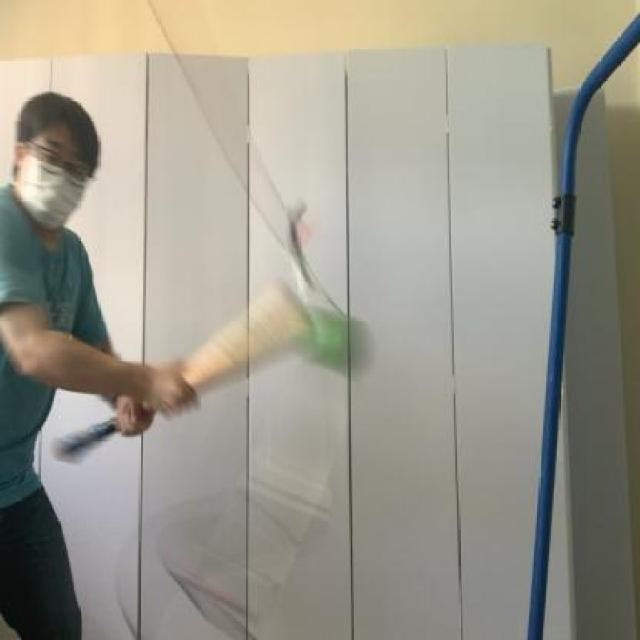baseball: (296, 297, 372, 377)
